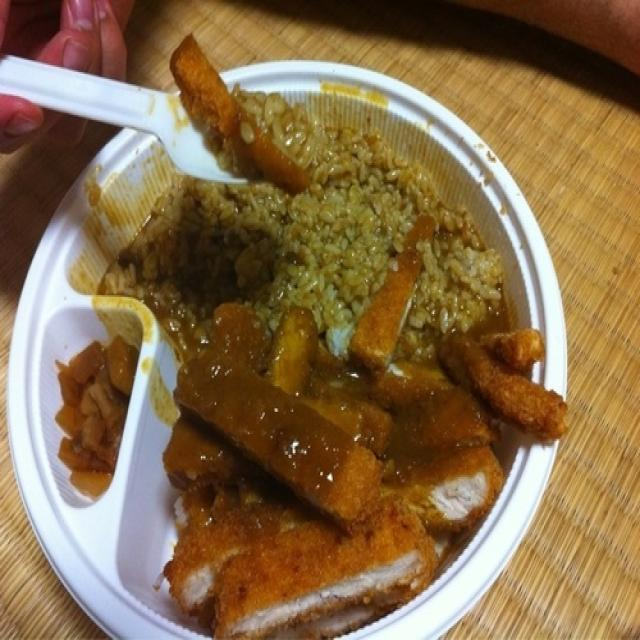鸡肉料理 含炸鸡: (33, 41, 576, 628)
